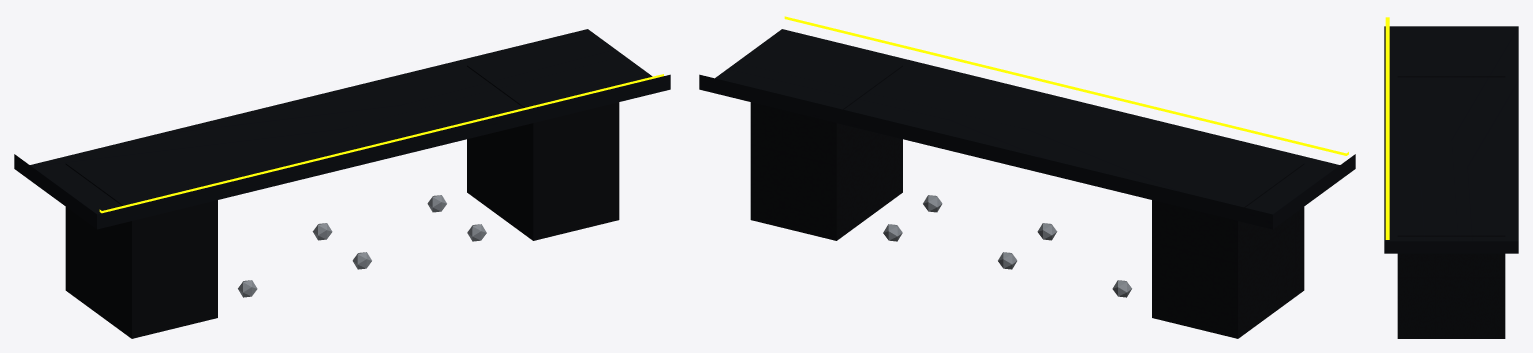
Rendered from v3_river_bench.glb.
The picture shows the model from 3 angles, left to right: view 1: azimuth 30°, elevation 25°; view 2: azimuth 150°, elevation 25°; view 3: azimuth 270°, elevation 25°; orthographic projection. The views are drawn at different scales.
Visible parts, largest first — view 1: Bench_Seat, Bench_Plinths, Seat_Edge, Base_Pebbles; view 2: Bench_Seat, Bench_Plinths, Seat_Edge, Base_Pebbles; view 3: Bench_Seat, Bench_Plinths, Seat_Edge.
Part boxes in pixels (left/top/right/bottom): Bench_Seat: left=14, top=29, right=670, bottom=229; Bench_Plinths: left=65, top=65, right=619, bottom=338; Seat_Edge: left=99, top=74, right=663, bottom=213; Base_Pebbles: left=238, top=195, right=486, bottom=297; Bench_Seat: left=699, top=29, right=1355, bottom=229; Bench_Plinths: left=750, top=65, right=1304, bottom=338; Seat_Edge: left=784, top=16, right=1348, bottom=155; Base_Pebbles: left=883, top=195, right=1131, bottom=297; Bench_Seat: left=1384, top=26, right=1518, bottom=253; Bench_Plinths: left=1397, top=76, right=1505, bottom=338; Seat_Edge: left=1385, top=17, right=1389, bottom=239.
Size of what is drawn, in the model's own units: 2 by 0.475 by 0.5.
4 materials, 2 textured.
